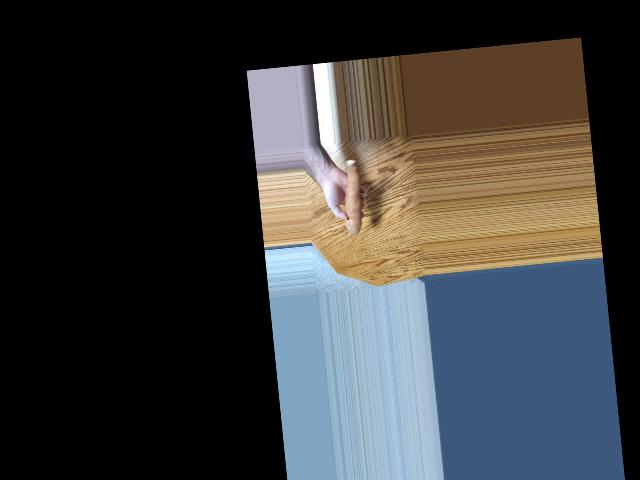sweet_potato: (343, 164, 369, 235)
